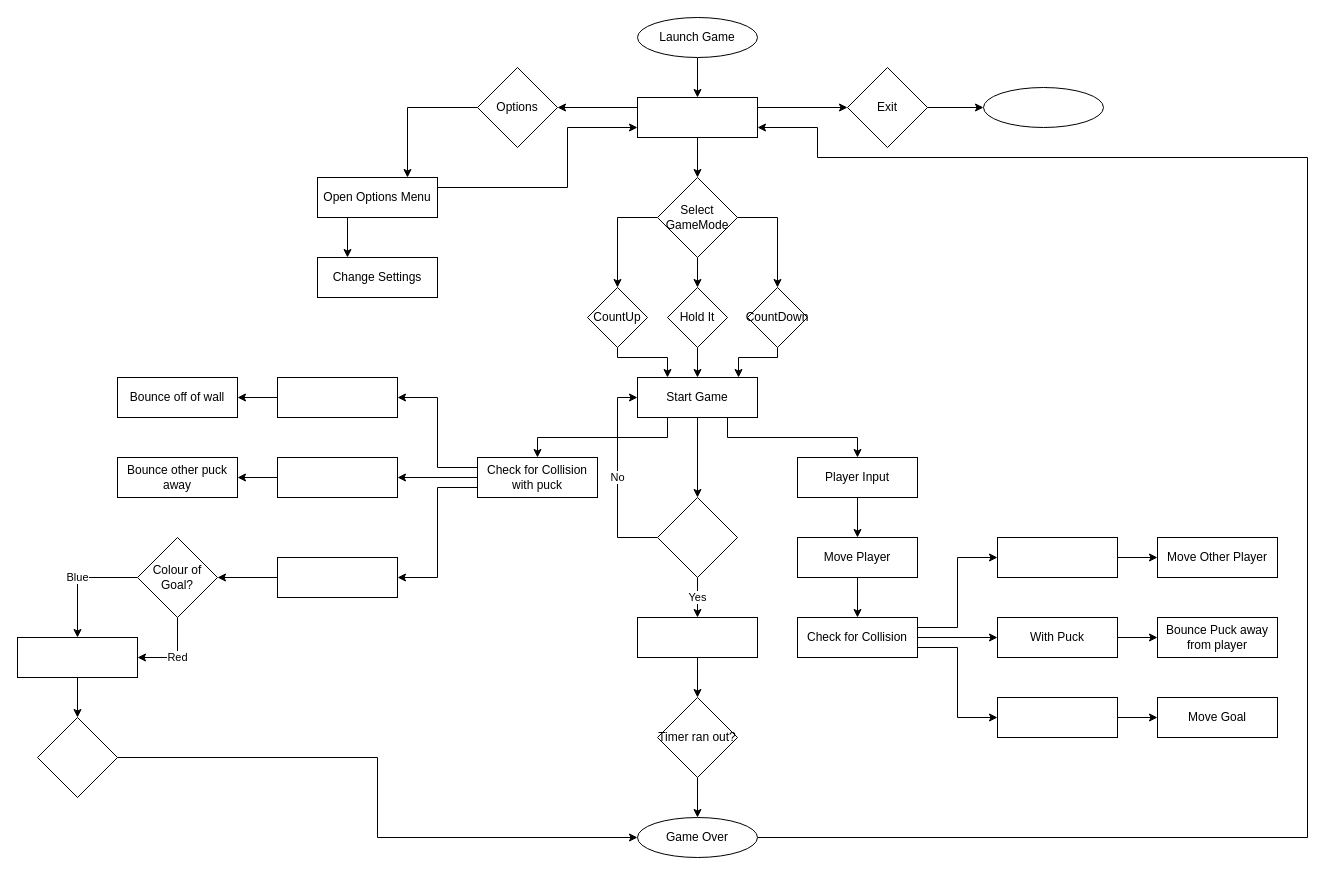
This 1333x883 diagram has some shape labels left out. Here are the shapes that lost their labels. From the top down, the centre of each, then its label:
pixel 697 117: Main Menu
pixel 1043 107: Exit Game
pixel 337 397: With Wall
pixel 337 477: With other Puck
pixel 697 537: Is the GameMode Countdown?
pixel 1057 557: With other player
pixel 337 577: With Goal
pixel 77 657: Increase Score for opposing team
pixel 697 637: Start Timer
pixel 1057 717: With Goal?
pixel 77 757: Score Limit Reached?
